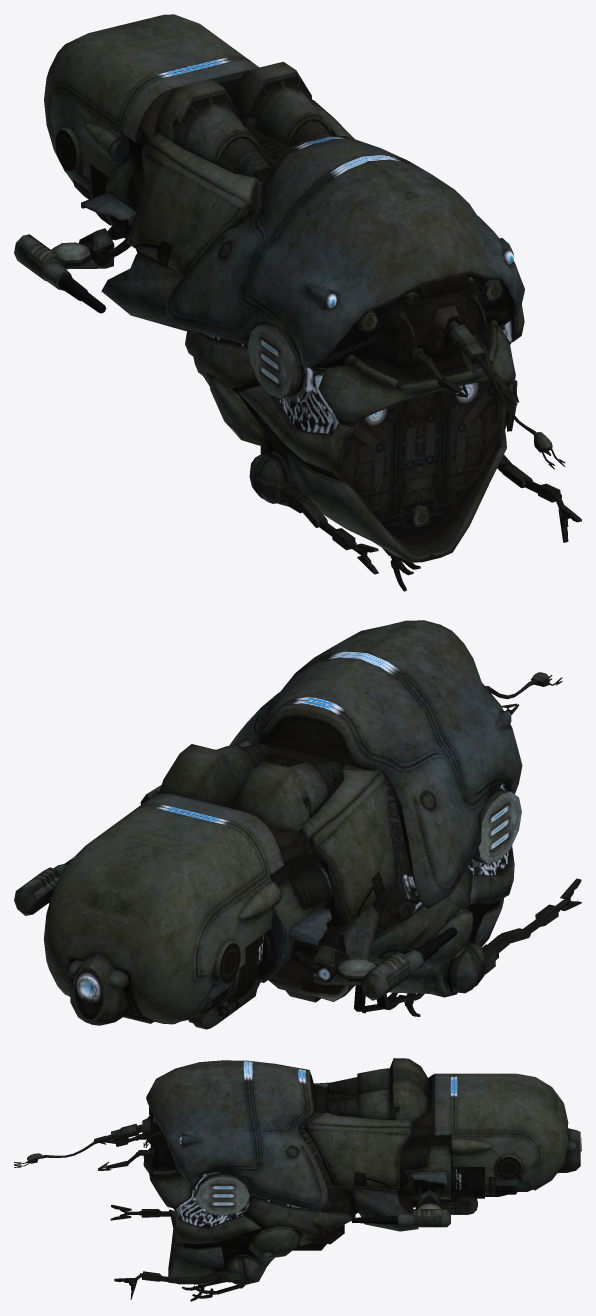
The model's file is 30200_lite.glb.
3 renders of one model, top to bottom at view 1: azimuth 30°, elevation 25°; view 2: azimuth 150°, elevation 25°; view 3: azimuth 270°, elevation 25°, orthographic. The views are drawn at different scales.
Visible parts, largest first — view 1: SLC1_TShape1; view 2: SLC1_TShape1; view 3: SLC1_TShape1.
Part boxes in pixels (x1,y1,x2,y2): SLC1_TShape1: (14,14,581,591); SLC1_TShape1: (14,620,581,1029); SLC1_TShape1: (14,1058,581,1301).
Bounding box in the file's own units: 1.88 × 1.91 × 4.12.
1 material, 1 textured.
